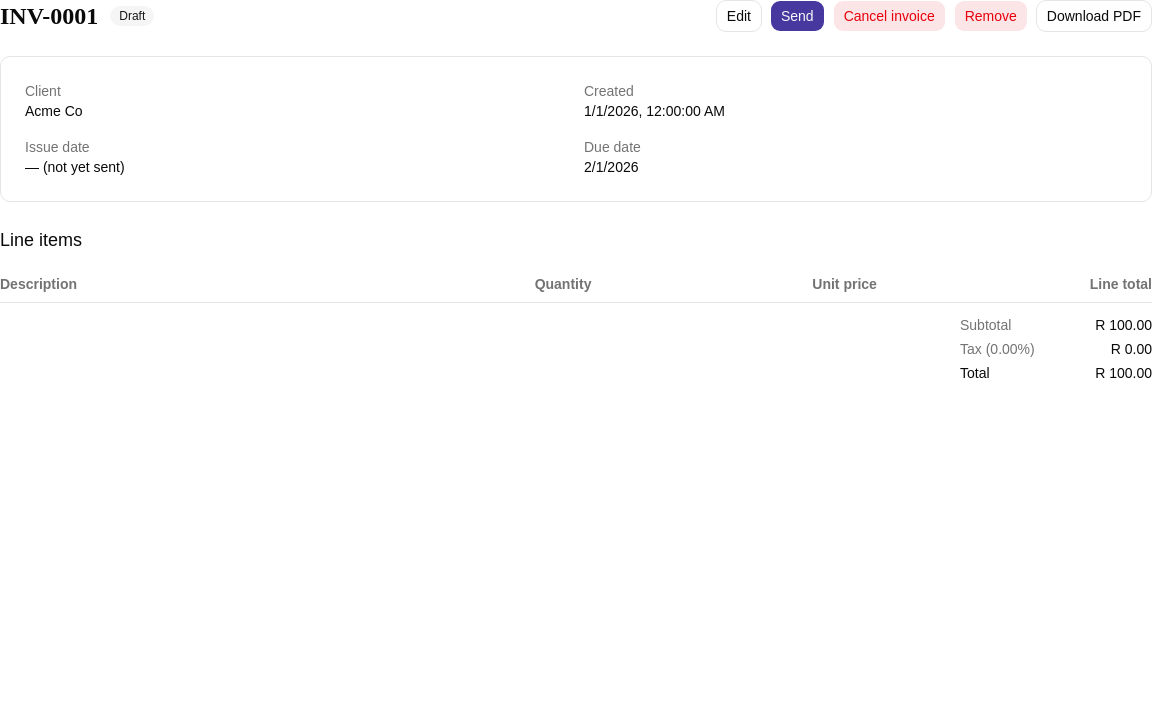
Test case: InvoiceDetailPage — Send email delivery outcome › shows no info message when Send succeeds and email delivery is Sent
Click the button "Send". click: click(797, 16)
box: top-left (770, 0), bottom-right (825, 32)
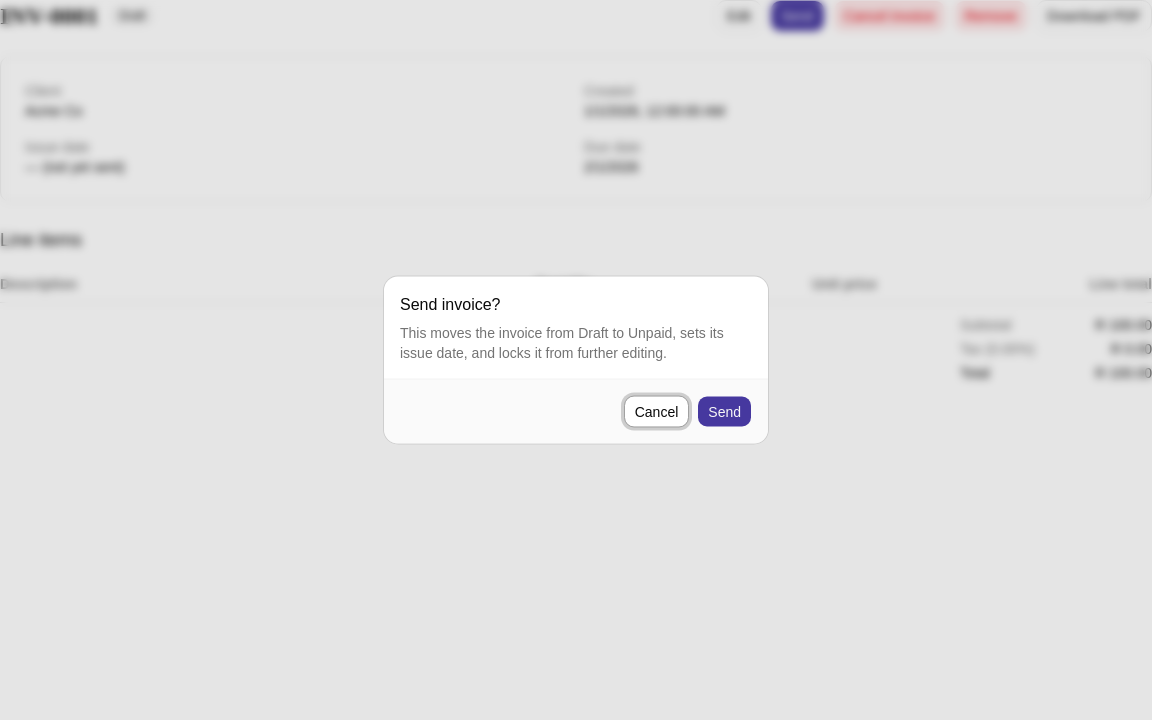
Click the button "Send". click: click(725, 412)
box: top-left (697, 396), bottom-right (752, 428)
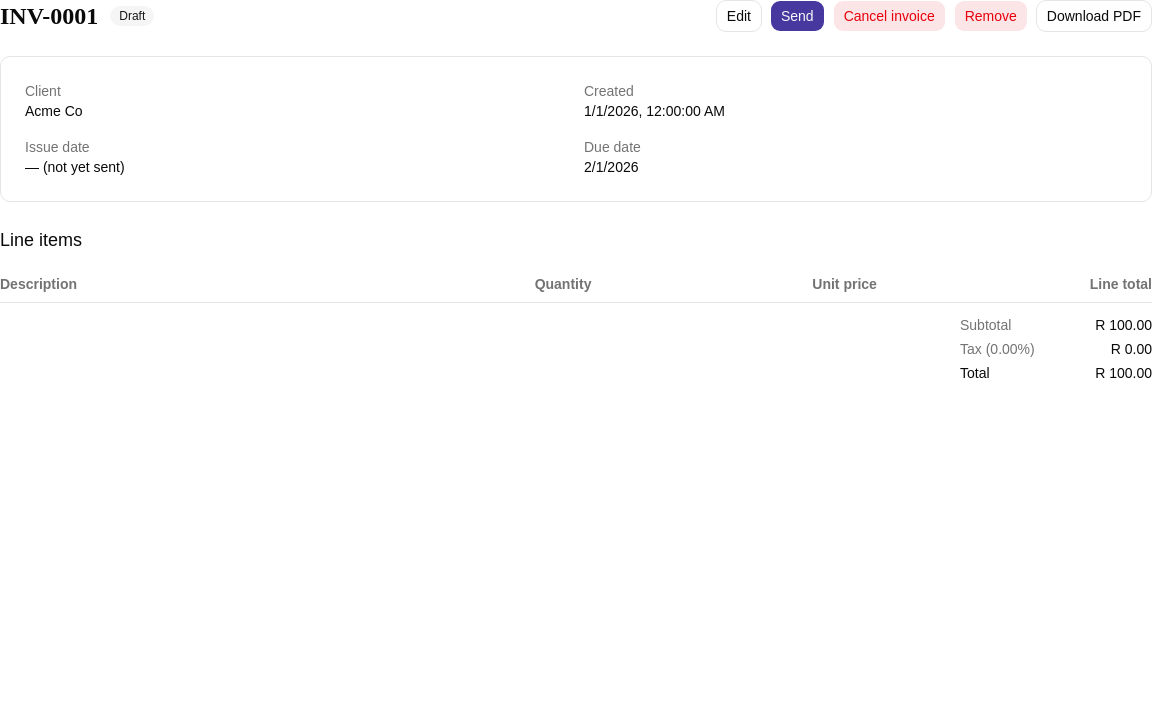
Expected: the dialog is gone
